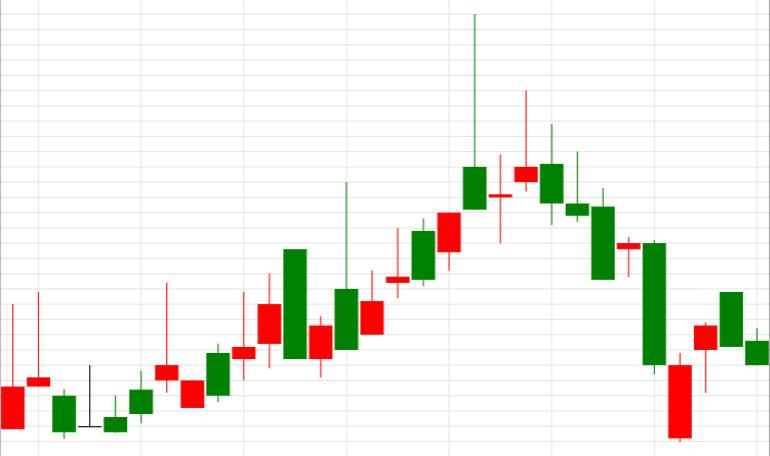shooting_star_fall: (309, 14, 486, 379)
